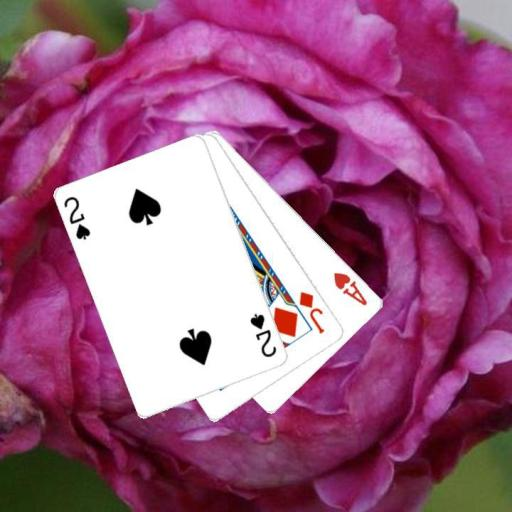2S: (247, 310, 279, 359), (61, 193, 93, 242)
AH: (330, 269, 369, 307)
JD: (296, 288, 326, 336)
